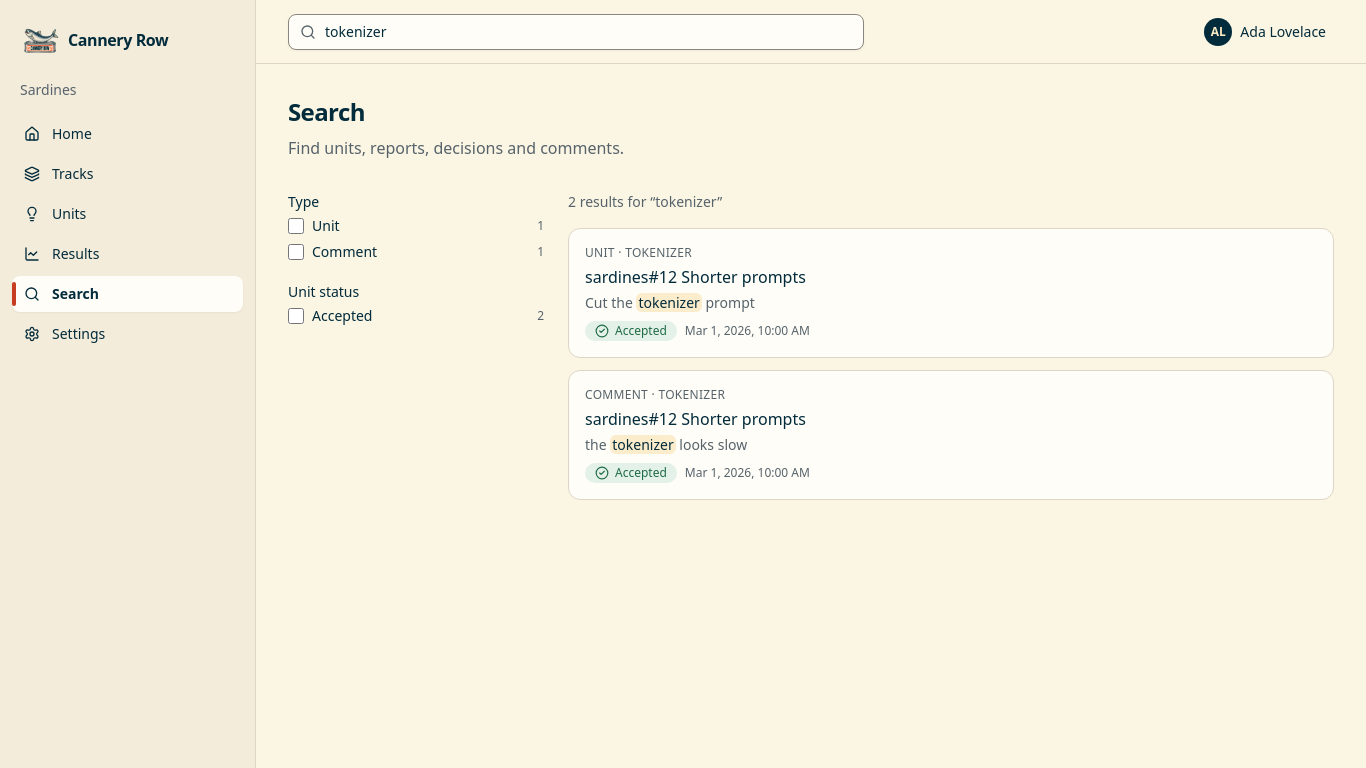
Test: Search › shows results with highlighted words and filters them by facet
The image size is (1366, 768).
Expected: the text "2 results for “tokenizer”" is shown, [568,192,722,211]
Click the checkbox labelled "Comment" at (296, 252), box [288,244,304,260]
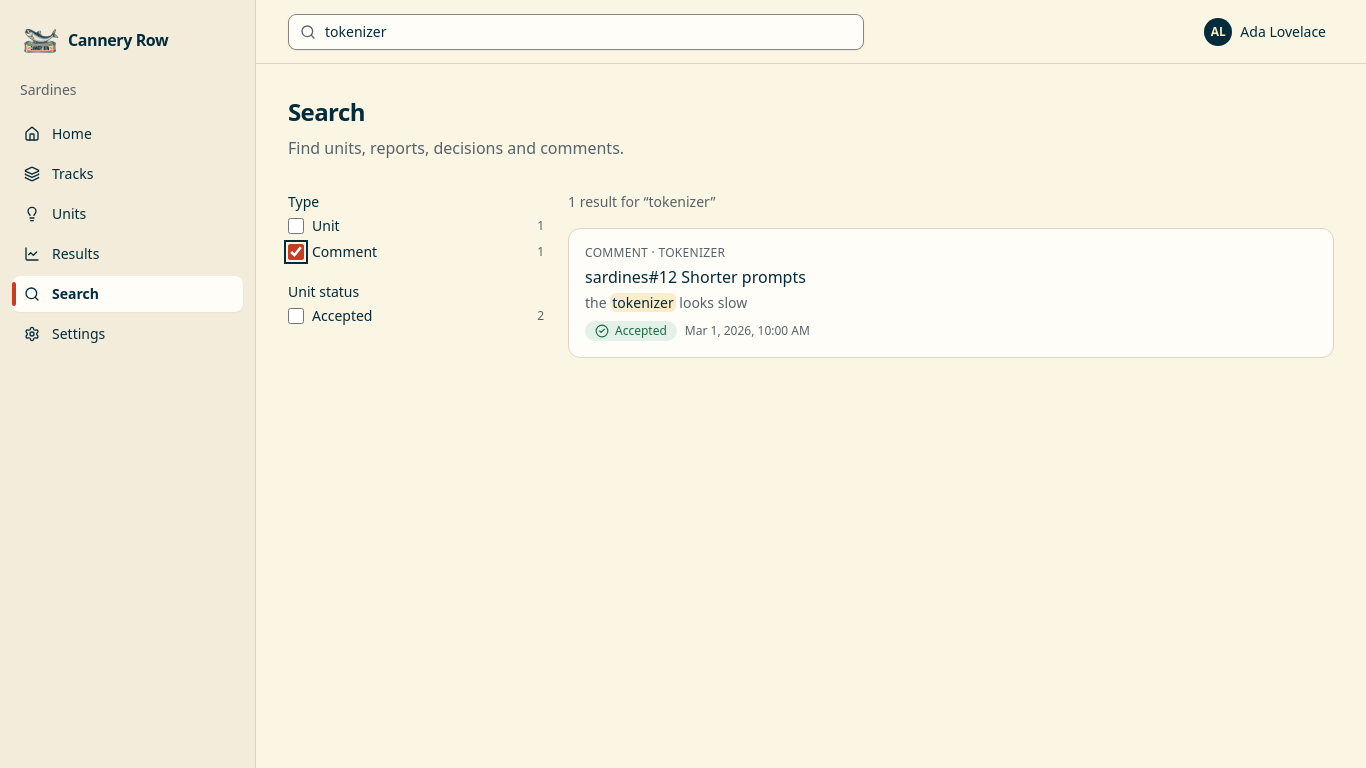
Now the text "1 result for “tokenizer”" is shown, box [568,192,716,211]
